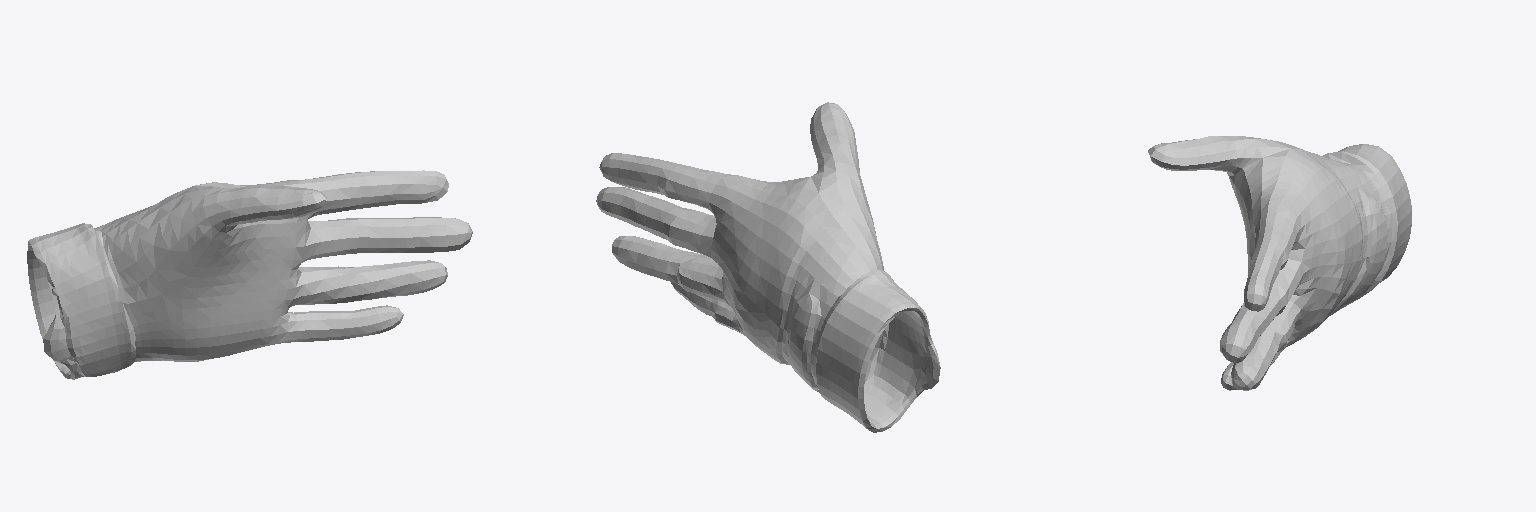
The model's file is Glove_left.OBJ.
3 renders of one model, left to right at view 1: azimuth 30°, elevation 25°; view 2: azimuth 150°, elevation 25°; view 3: azimuth 270°, elevation 25°, orthographic.
Parts seen in each view (by area): view 1: ZBrush_defualt_group; view 2: ZBrush_defualt_group; view 3: ZBrush_defualt_group.
Part boxes in pixels (left/top/right/bottom): ZBrush_defualt_group: left=27, top=170, right=472, bottom=379; ZBrush_defualt_group: left=596, top=102, right=940, bottom=432; ZBrush_defualt_group: left=1148, top=136, right=1411, bottom=390.
Bounding box in the file's own units: 0.5862 × 0.3162 × 0.3482.